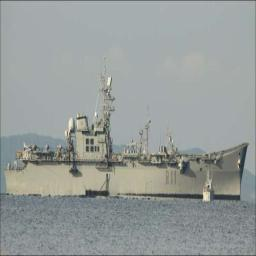Portanaves: (5, 53, 251, 205)
